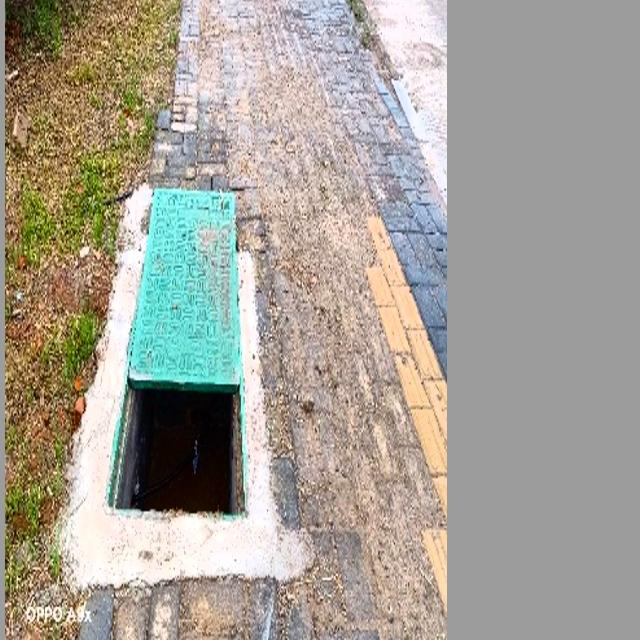uncovered: (120, 163, 255, 527)
